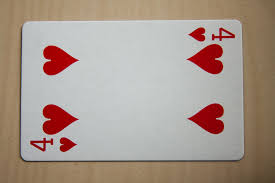four of hearts: (20, 19, 246, 159)
